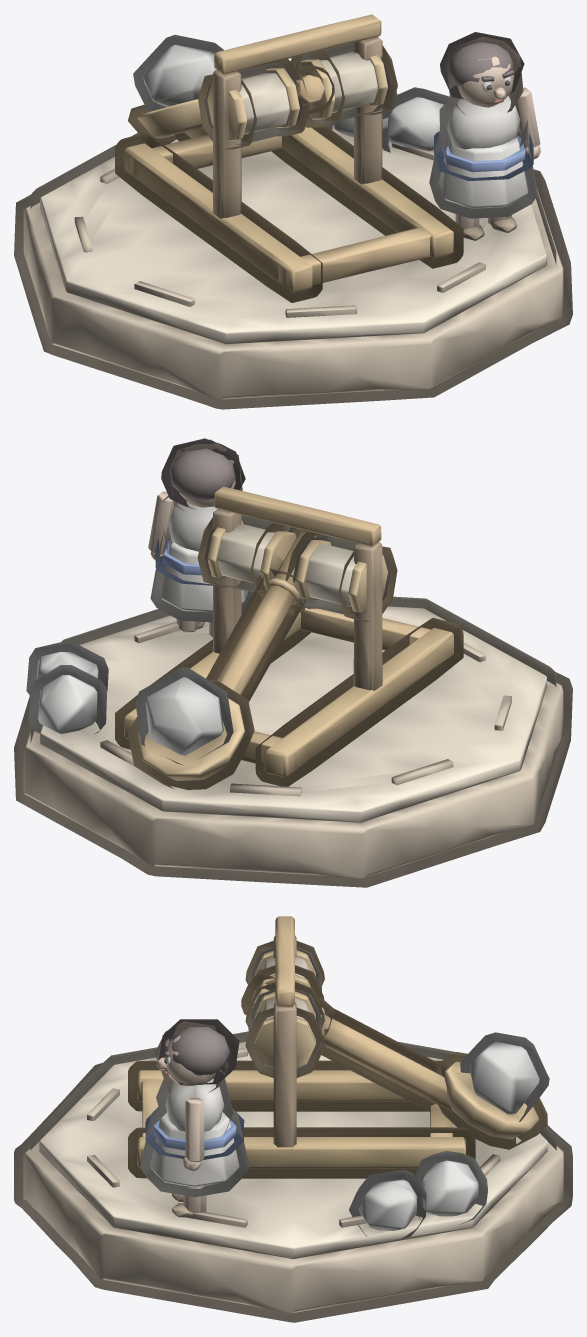
Rendered from torsion_catapult.glb.
3 renders of one model, top to bottom at view 1: azimuth 30°, elevation 25°; view 2: azimuth 150°, elevation 25°; view 3: azimuth 270°, elevation 25°, orthographic. The views are drawn at different scales.
Visible parts, largest first — view 1: M_TorsionCatapult, M_Yaw.002, M_Body.002, M_Yaw.002_Outline, M_TorsionCatapult_Outline, M_Arm.002, M_Body.002_Outline, M_Arm.002_Outline; view 2: M_TorsionCatapult, M_Yaw.002, M_TorsionCatapult_Outline, M_Arm.002, M_Yaw.002_Outline, M_Body.002, M_Arm.002_Outline, M_Body.002_Outline; view 3: M_TorsionCatapult, M_Yaw.002, M_TorsionCatapult_Outline, M_Yaw.002_Outline, M_Body.002, M_Arm.002, M_Arm.002_Outline, M_Body.002_Outline.
Part boxes in pixels (x1,y1,x2,y2): M_TorsionCatapult: [23, 97, 563, 399]; M_Yaw.002: [124, 14, 453, 292]; M_Body.002: [439, 42, 540, 240]; M_Yaw.002_Outline: [115, 43, 463, 302]; M_TorsionCatapult_Outline: [14, 87, 572, 409]; M_Arm.002: [137, 44, 324, 138]; M_Body.002_Outline: [429, 32, 537, 218]; M_Arm.002_Outline: [128, 34, 334, 145]; M_TorsionCatapult: [23, 606, 563, 878]; M_Yaw.002: [124, 486, 453, 777]; M_TorsionCatapult_Outline: [14, 596, 572, 887]; M_Arm.002: [137, 531, 316, 780]; M_Yaw.002_Outline: [115, 515, 463, 786]; M_Body.002: [148, 448, 248, 637]; M_Arm.002_Outline: [127, 527, 306, 789]; M_Body.002_Outline: [150, 438, 253, 622]; M_TorsionCatapult: [23, 1041, 563, 1313]; M_Yaw.002: [137, 916, 465, 1168]; M_TorsionCatapult_Outline: [14, 1031, 572, 1322]; M_Yaw.002_Outline: [128, 941, 475, 1178]; M_Body.002: [150, 1027, 239, 1217]; M_Arm.002: [251, 983, 539, 1139]; M_Arm.002_Outline: [241, 973, 549, 1149]; M_Body.002_Outline: [140, 1019, 249, 1197].
Size of the model in its own units: 3.4 by 1.72 by 3.4.
